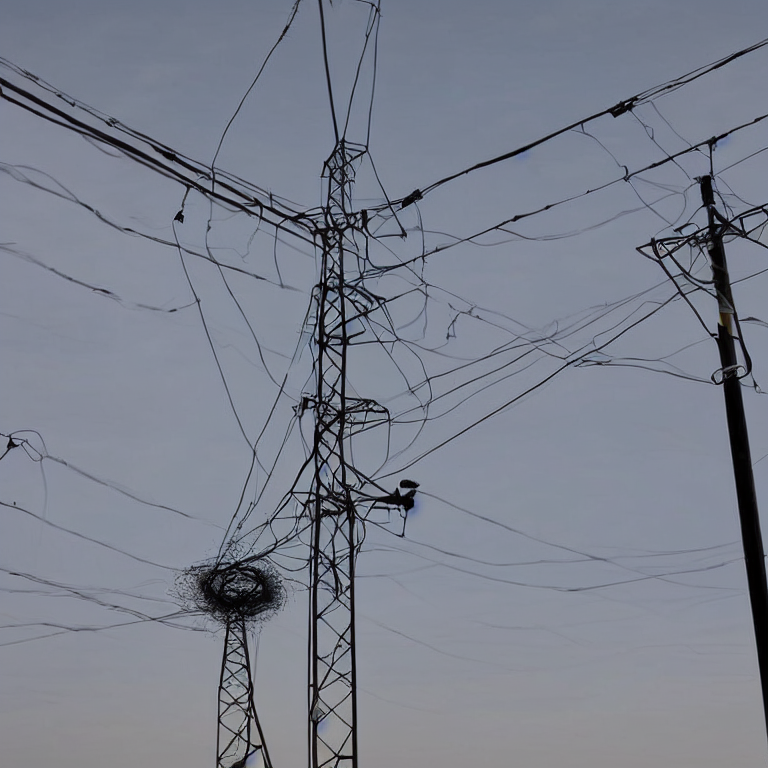nest: (194, 561, 283, 616)
